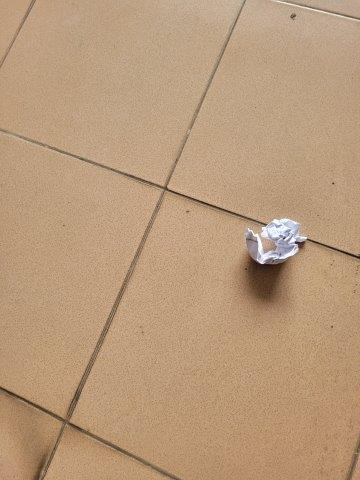kertas: (241, 218, 307, 268)
